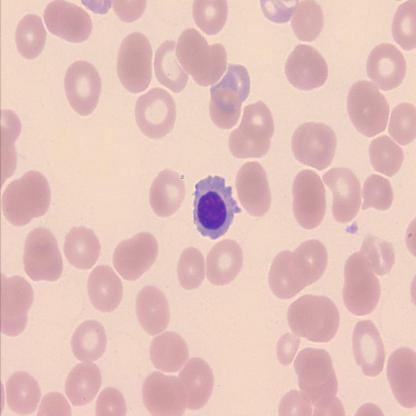NRC: (191, 174, 242, 241)
